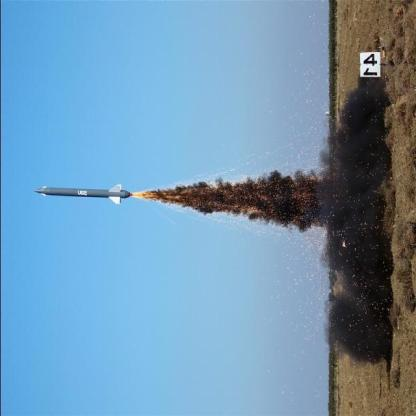MIL_TBM: (34, 181, 134, 206)
